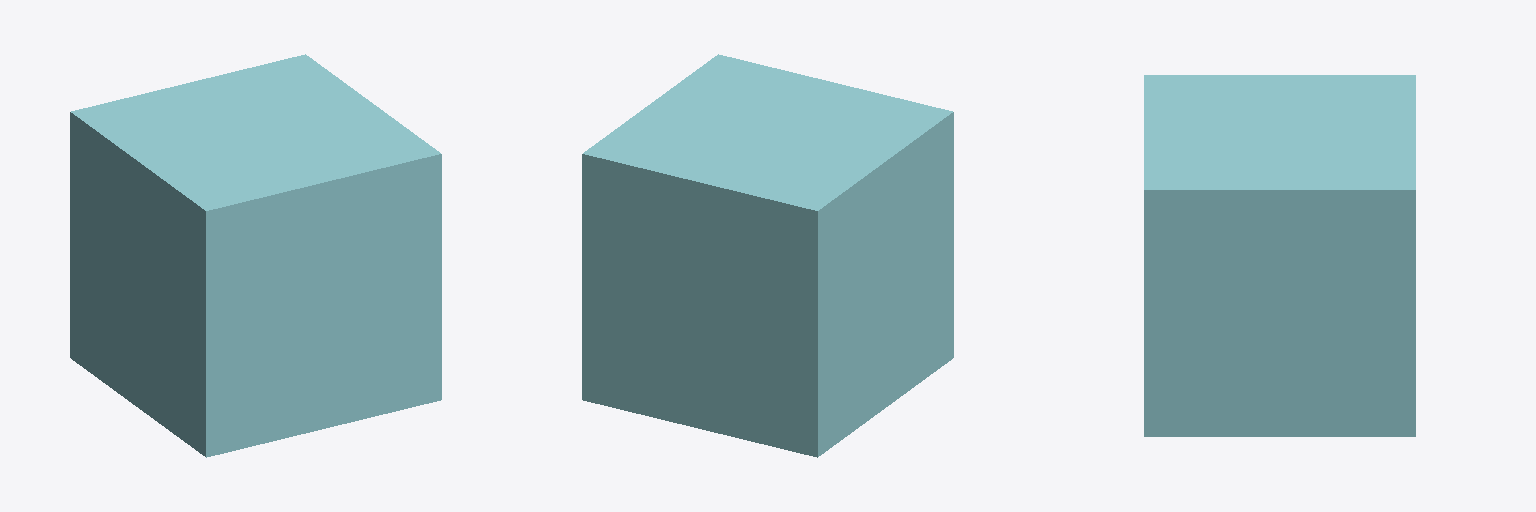
3 renders of one model, left to right at view 1: azimuth 30°, elevation 25°; view 2: azimuth 150°, elevation 25°; view 3: azimuth 270°, elevation 25°, orthographic.
Parts seen in each view (by area): view 1: object 1; view 2: object 1; view 3: object 1.
Part boxes in pixels (left/top/right/bottom): object 1: left=70, top=54, right=441, bottom=457; object 1: left=582, top=54, right=953, bottom=457; object 1: left=1144, top=75, right=1415, bottom=436.
Size of the model in its own units: 0.1 by 0.1 by 0.1.
Materials: 1 (1 with a texture image).